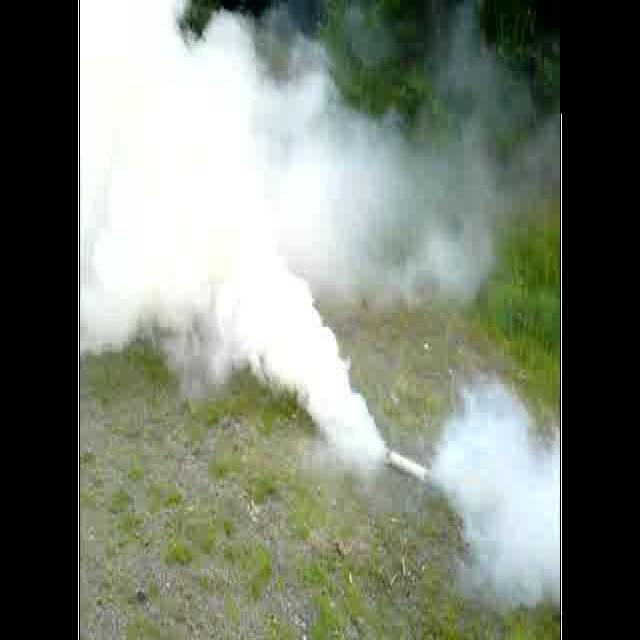Smoke: (78, 0, 562, 614)
